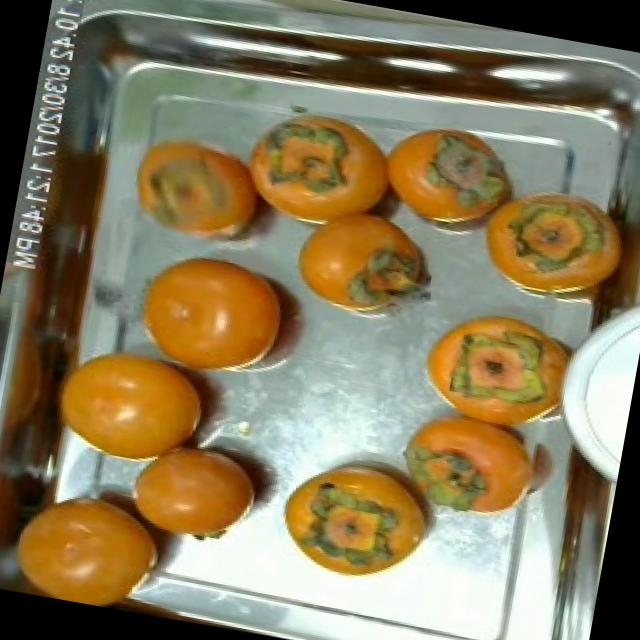Fruit: (112, 228, 326, 394), (26, 325, 236, 480), (406, 286, 593, 448), (263, 438, 450, 599), (0, 465, 195, 619), (360, 105, 542, 264), (273, 183, 452, 329), (109, 113, 286, 260), (108, 416, 280, 561), (230, 104, 374, 238)
